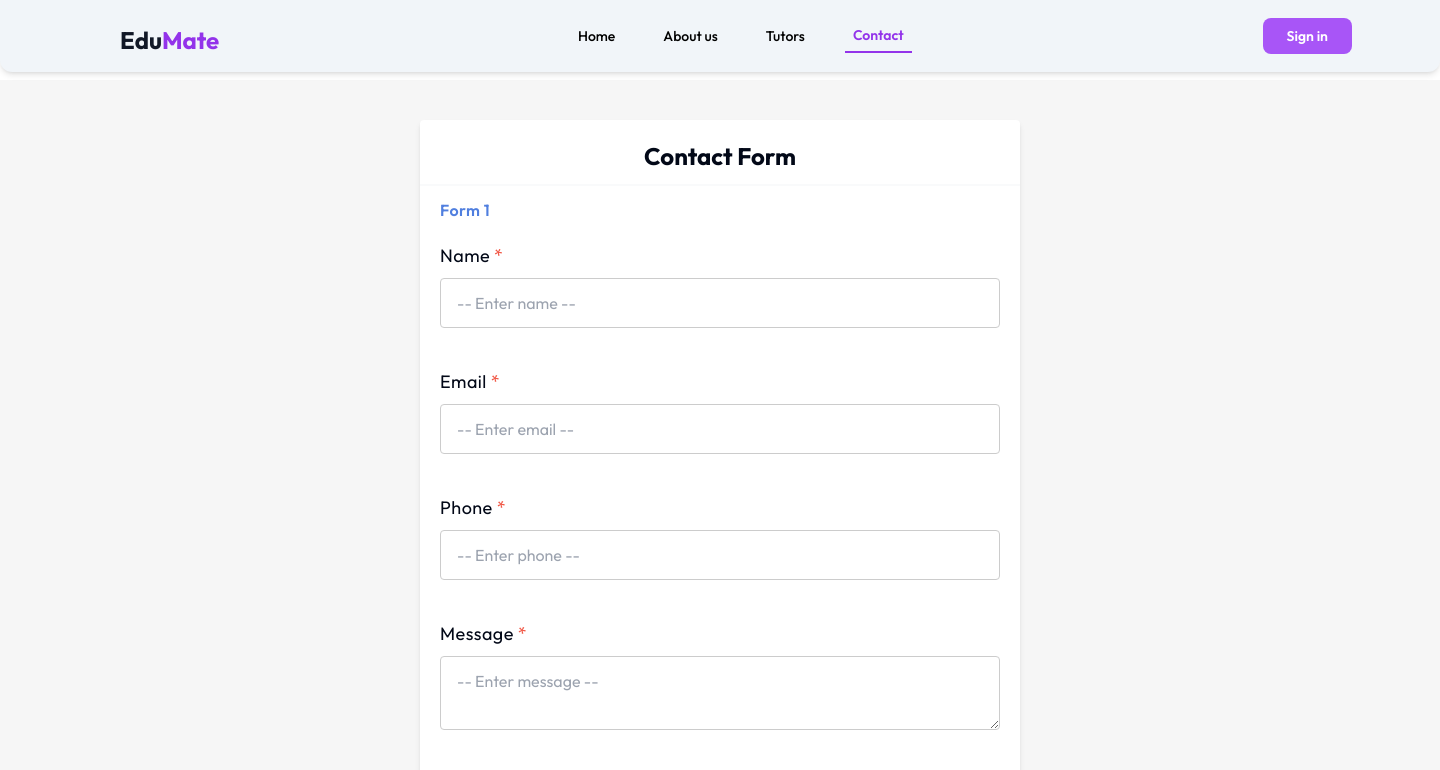
Test case: Form Component › should submit the form with valid data
Type "John Doe" into the field named "name". click: coordinates (720, 303)
box: top-left (440, 278), bottom-right (1000, 328)
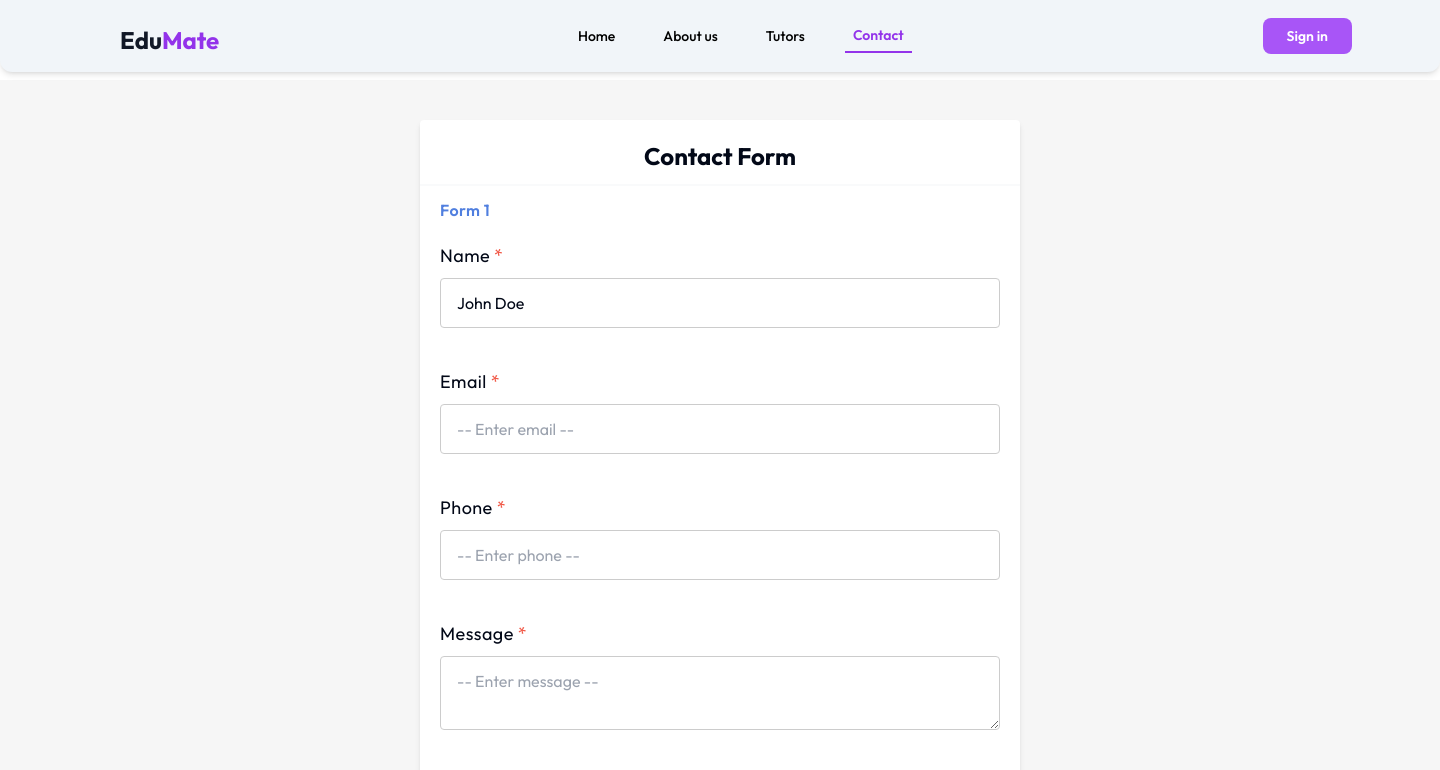
Type "john.doe@example.com" into the field named "email". click: coordinates (720, 429)
box: top-left (440, 404), bottom-right (1000, 454)
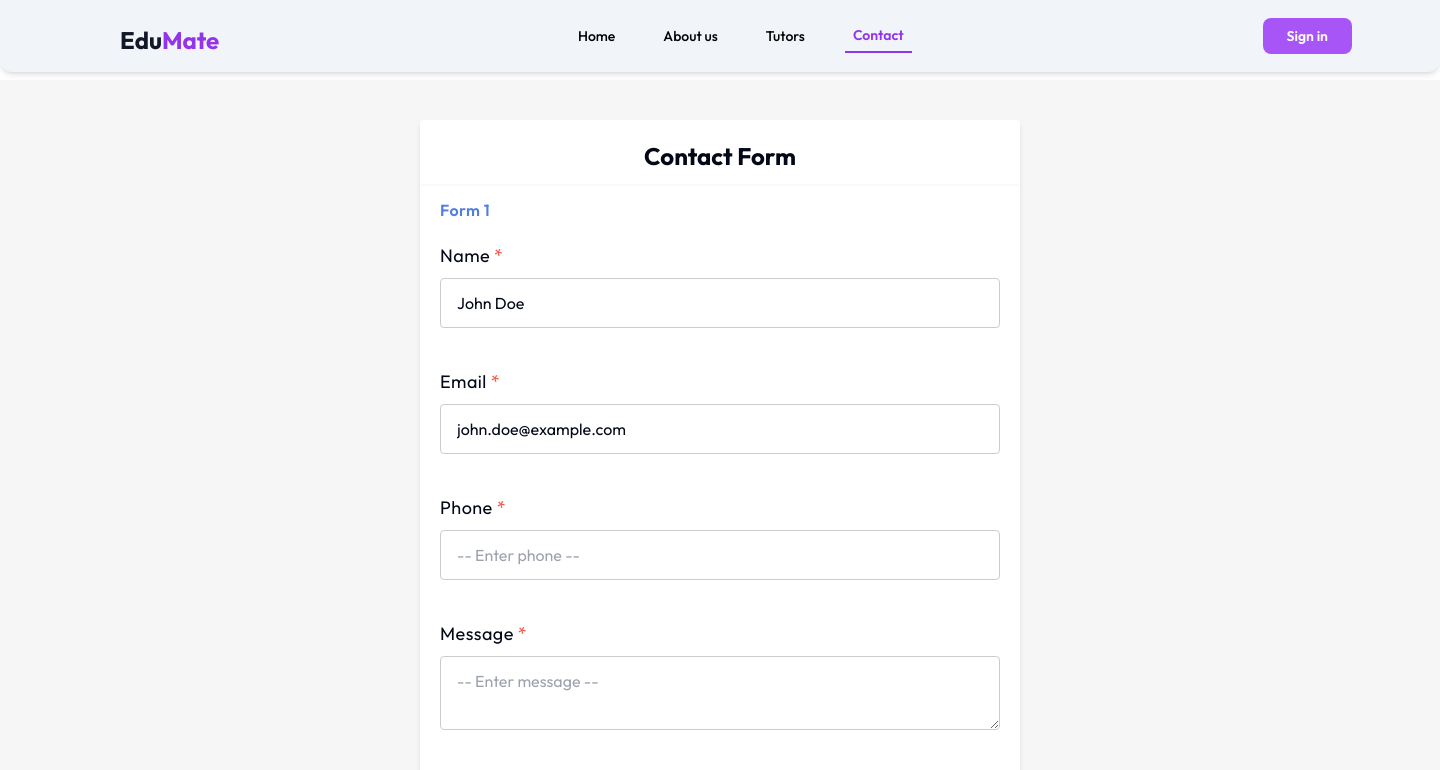
Type "1234567890" into the field named "phone". click: coordinates (720, 555)
box: top-left (440, 530), bottom-right (1000, 580)
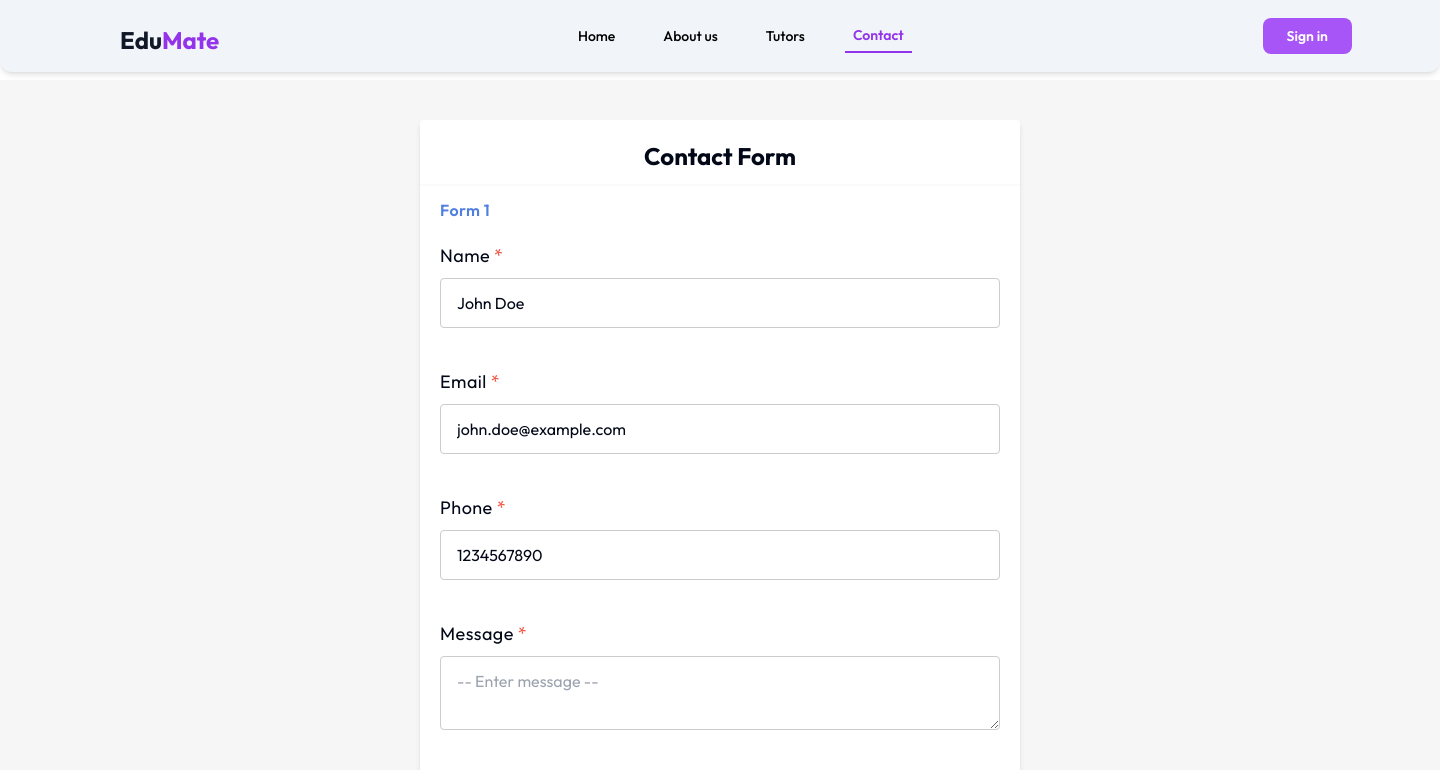
Type "Hello, this is a test message." into the text box named "message". click: coordinates (720, 693)
box: top-left (440, 656), bottom-right (1000, 730)
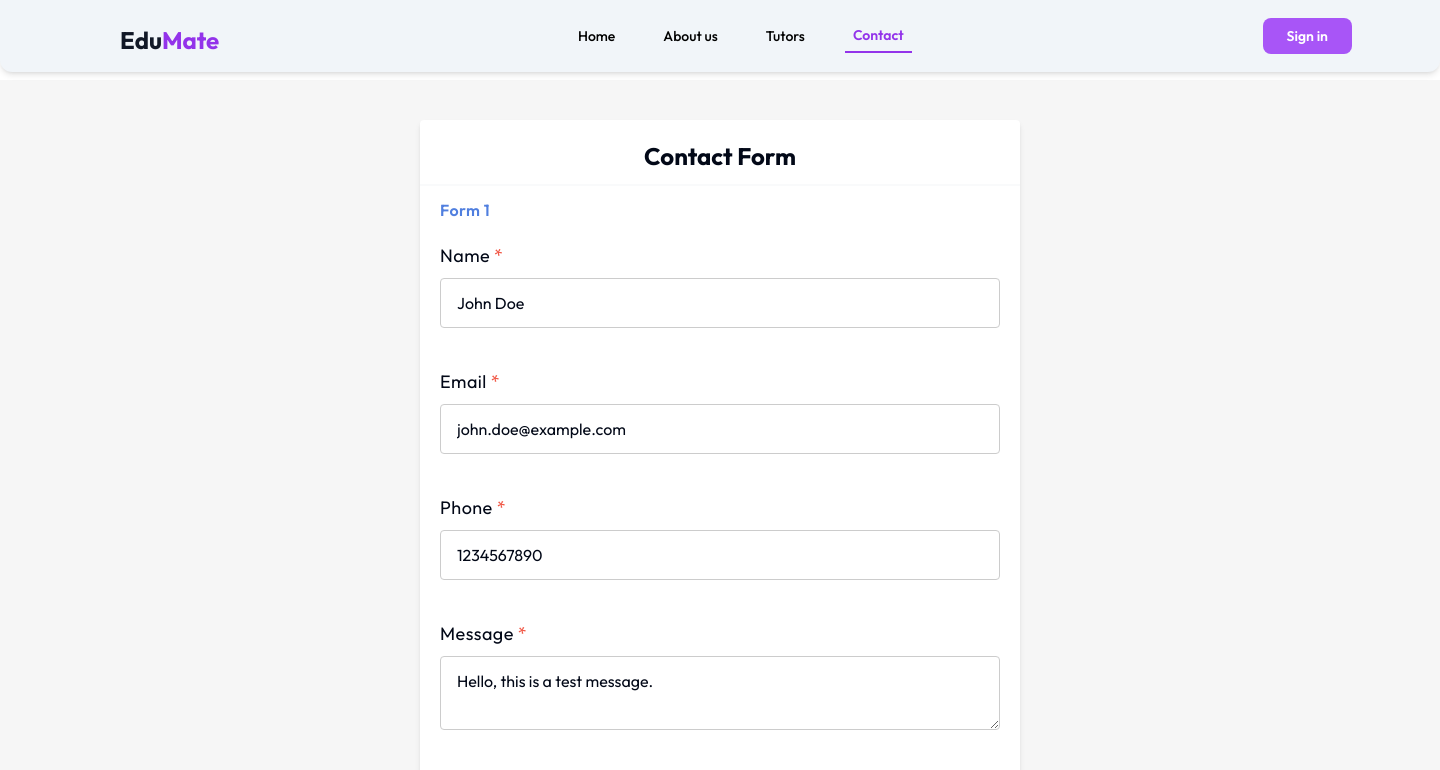
Scroll
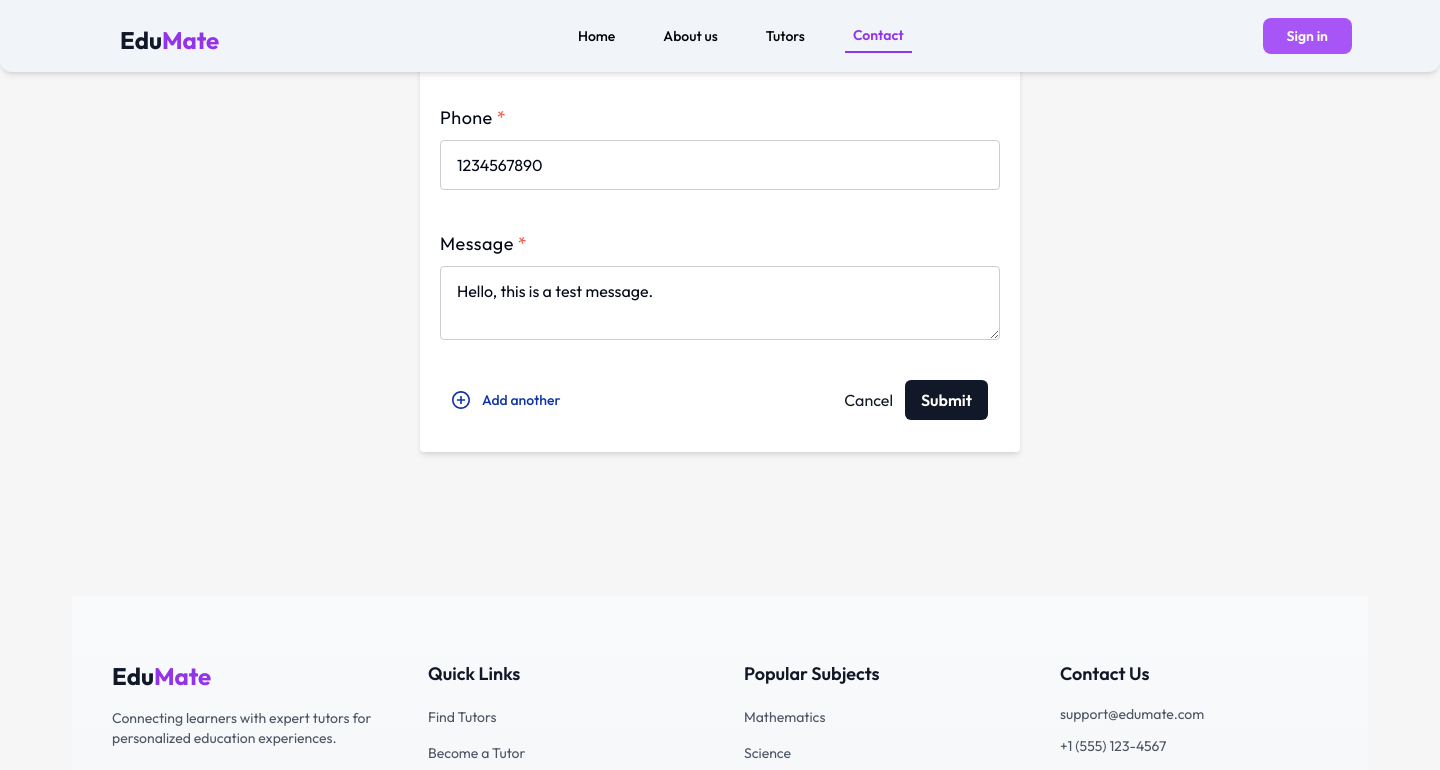
Click the button "Submit". click: coordinates (947, 400)
box: top-left (905, 380), bottom-right (988, 420)
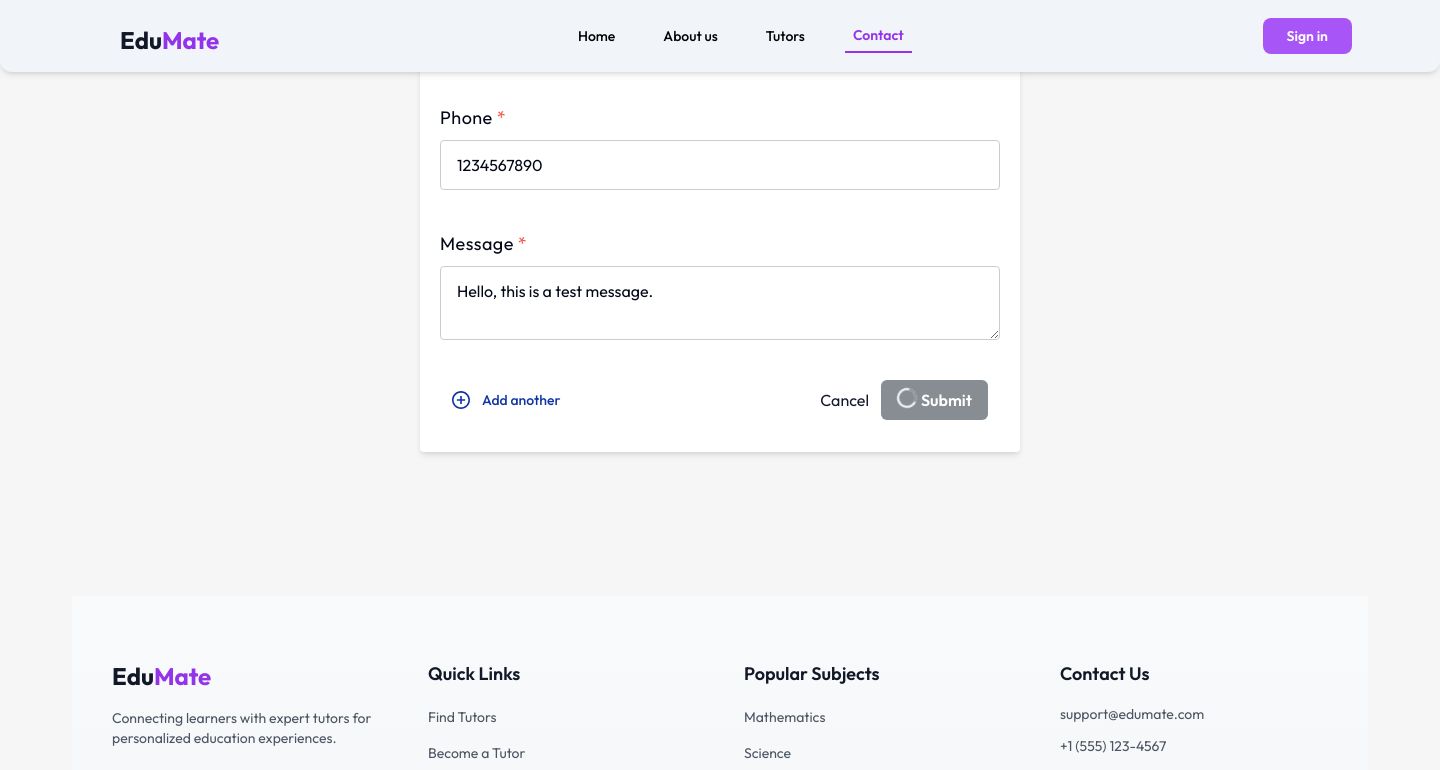
Expected: the message named "Loading..." is shown, top-left (897, 388), bottom-right (917, 408)
